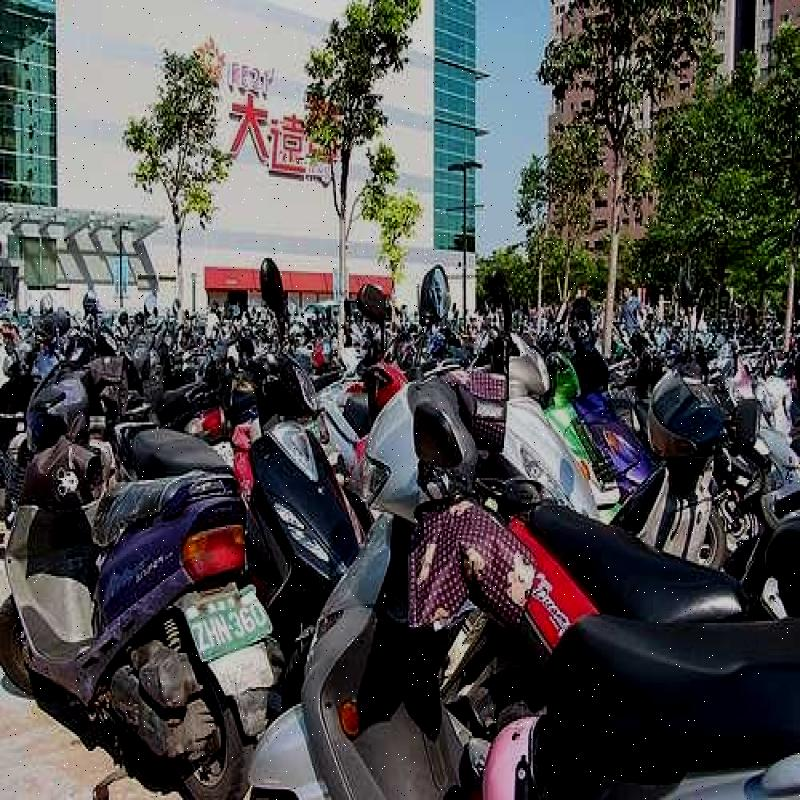bike: (332, 341, 798, 800), (7, 356, 251, 794), (228, 278, 386, 630), (632, 368, 777, 591), (480, 301, 593, 528), (560, 344, 653, 506)
